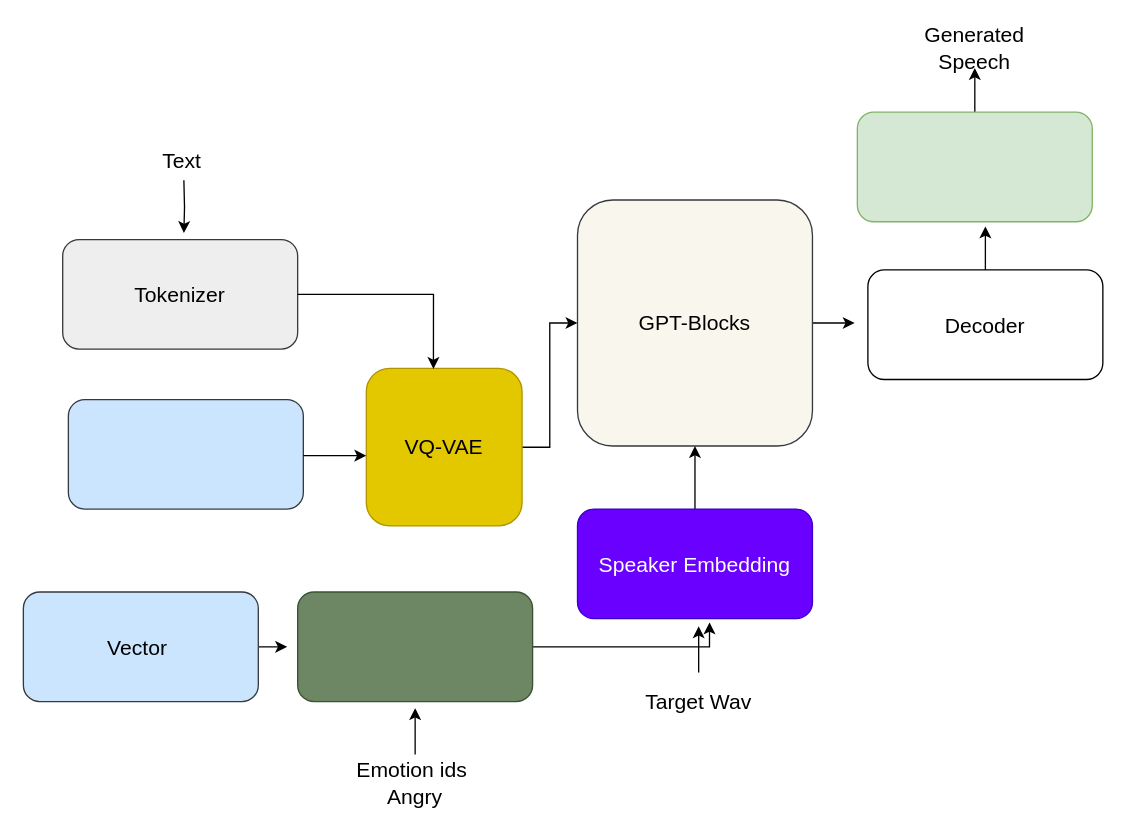
Image size: 1126x830. Some labels were removed from this diagram. The centre of each missing label's shape, as x and y in pixels:
"DataBase With Clustering Operation" belongs at (414,646).
"Ground Truth MEL-Specs" belongs at (185,453).
"HIFI-GAN" belongs at (974,166).
